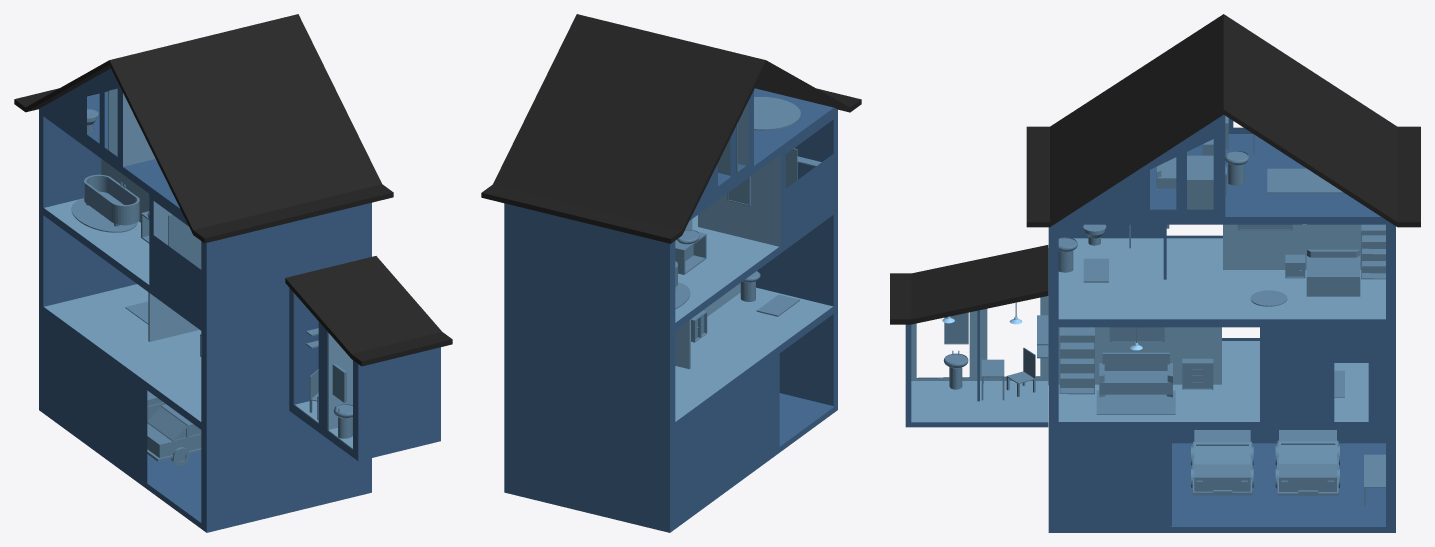
The model's file is house-remake.glb.
3 renders of one model, left to right at view 1: azimuth 30°, elevation 25°; view 2: azimuth 150°, elevation 25°; view 3: azimuth 270°, elevation 25°, orthographic. The views are drawn at different scales.
Visible parts, largest first — view 1: Cube.112; view 2: Cube.112; view 3: Cube.112.
Part boxes in pixels (x1,y1,x2,y2): Cube.112: (14, 14, 452, 532); Cube.112: (481, 14, 861, 532); Cube.112: (890, 14, 1420, 532).
Bounding box in the file's own units: 16 × 33.5 × 37.56.
7 materials, 1 textured.
